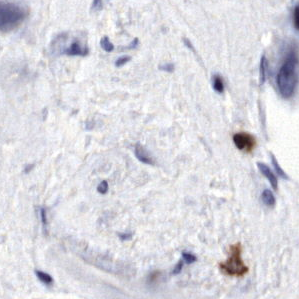Lymphocyte: (232, 129, 256, 152)
